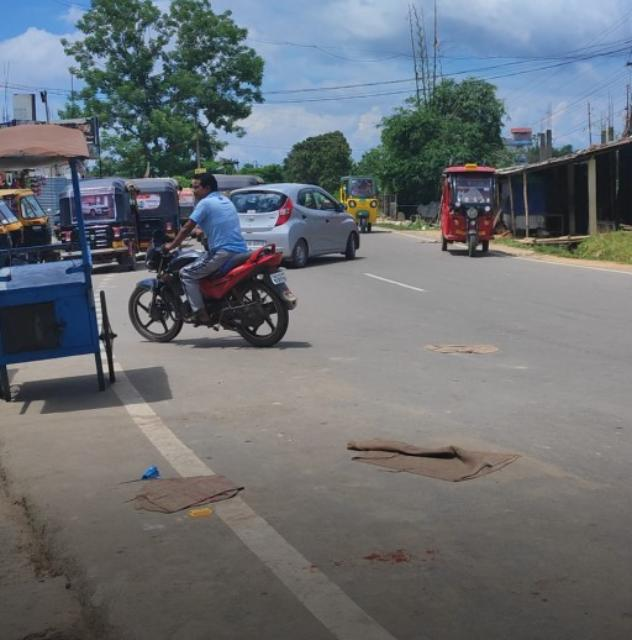licensePlate: (270, 274, 290, 285)
motorcycle: (129, 171, 296, 346)
withoutHelmet: (193, 172, 218, 199)
